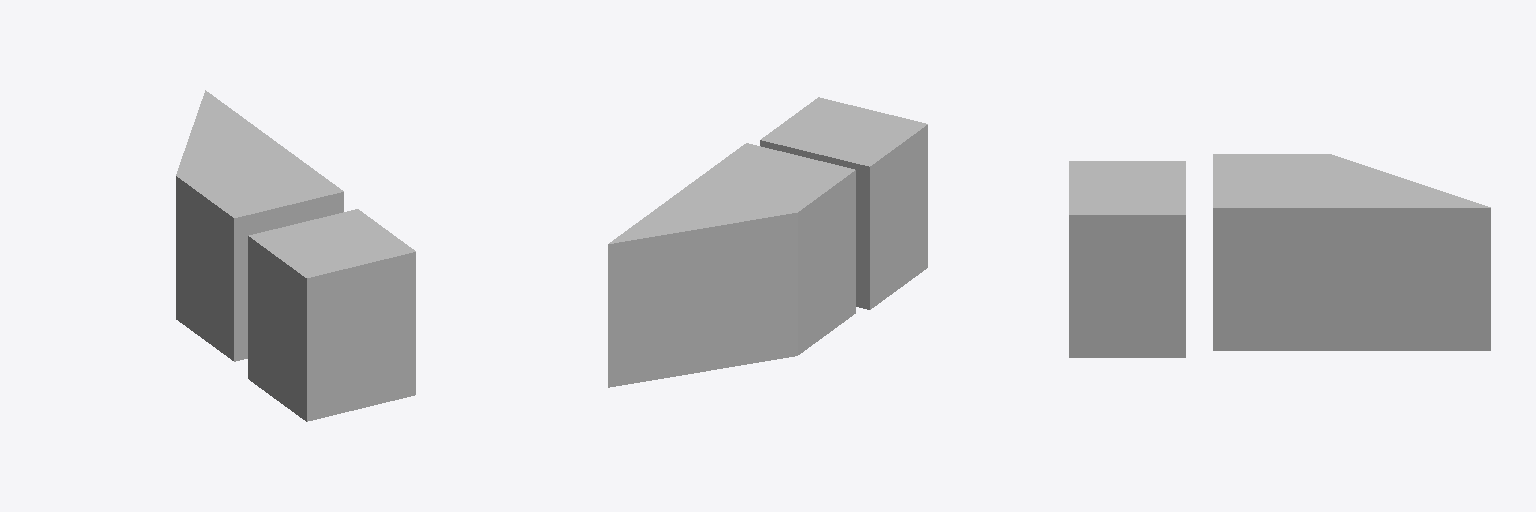
The model's file is building_inside.obj.
3 views of the same model, side by side, from view 1: azimuth 30°, elevation 25°; view 2: azimuth 150°, elevation 25°; view 3: azimuth 270°, elevation 25° (orthographic).
Parts seen in each view (by area): view 1: Cube.035_Cube.036, Cube.050_Cube.066; view 2: Cube.050_Cube.066, Cube.035_Cube.036; view 3: Cube.050_Cube.066, Cube.035_Cube.036.
Part boxes in pixels (bbox=[...]): Cube.035_Cube.036: bbox=[248, 209, 415, 421]; Cube.050_Cube.066: bbox=[176, 90, 343, 361]; Cube.050_Cube.066: bbox=[608, 143, 855, 387]; Cube.035_Cube.036: bbox=[760, 97, 927, 309]; Cube.050_Cube.066: bbox=[1213, 154, 1490, 350]; Cube.035_Cube.036: bbox=[1069, 161, 1185, 357].
Bounding box in the file's own units: 36.09 × 47.25 × 120.